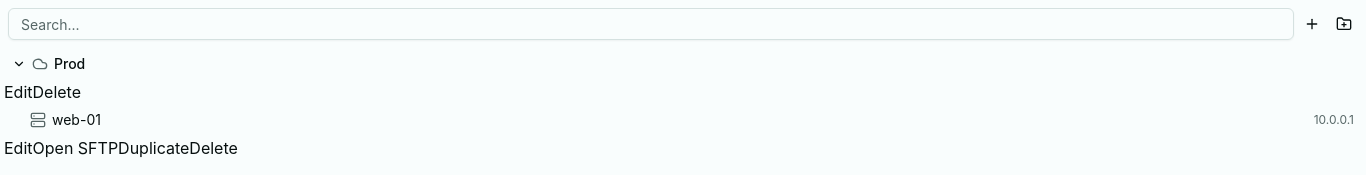
it: search filters profiles by name
Type "nomatch" into the field with placeholder "Search...". click: [651, 24]
box: [8,8,1294,40]
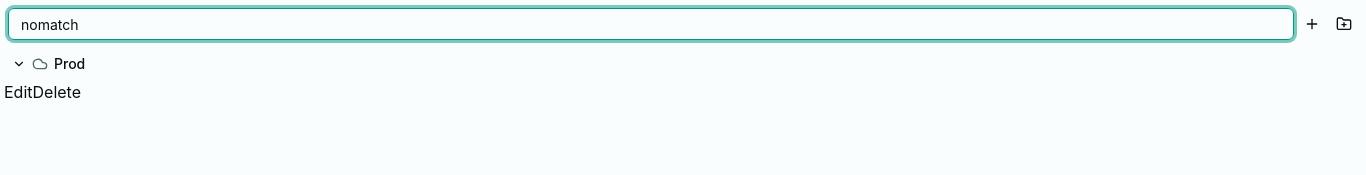
Expected: the button "web-01" is gone
